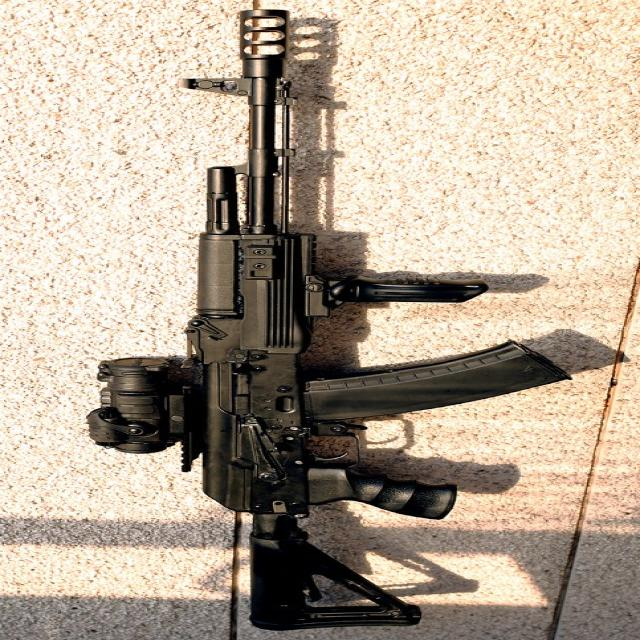firearm: (82, 7, 575, 631)
